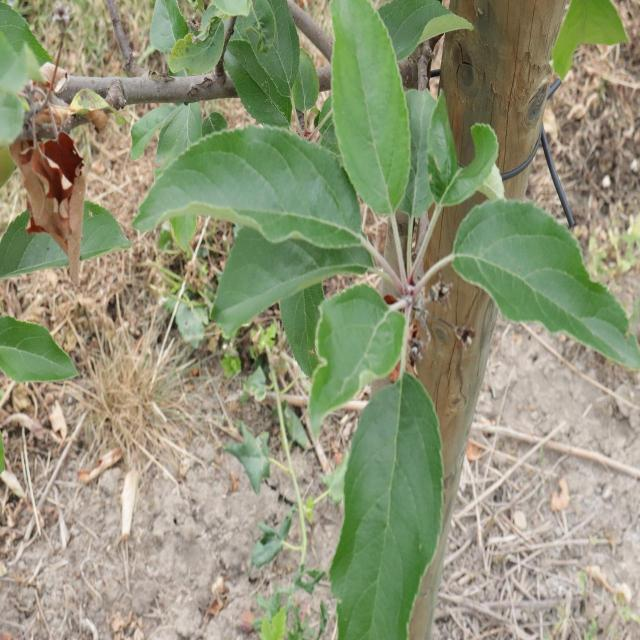-FireBlight-: (18, 87, 96, 264)
